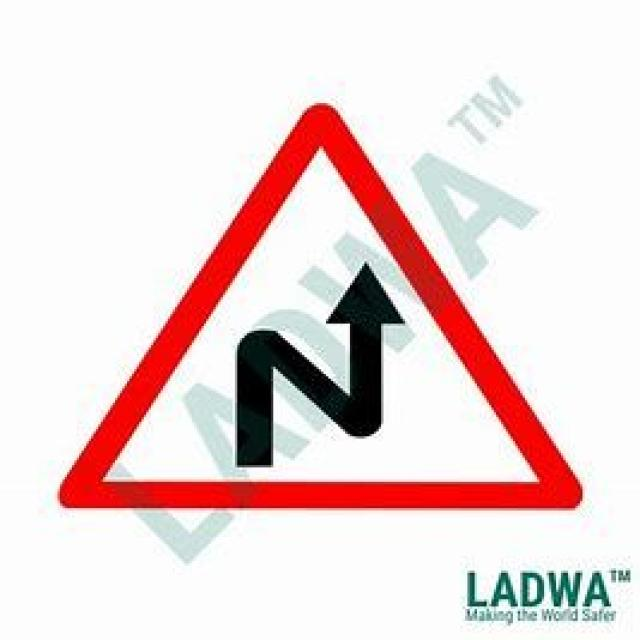RIGHT_REVERSE_BEND: (47, 98, 594, 526)
